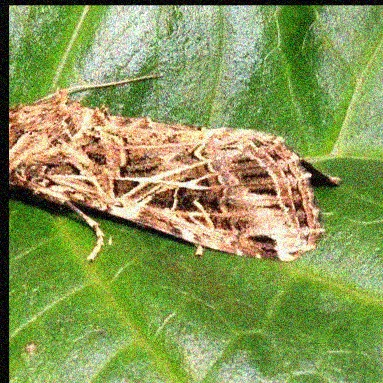Spodoptera litura: (10, 73, 343, 262)
